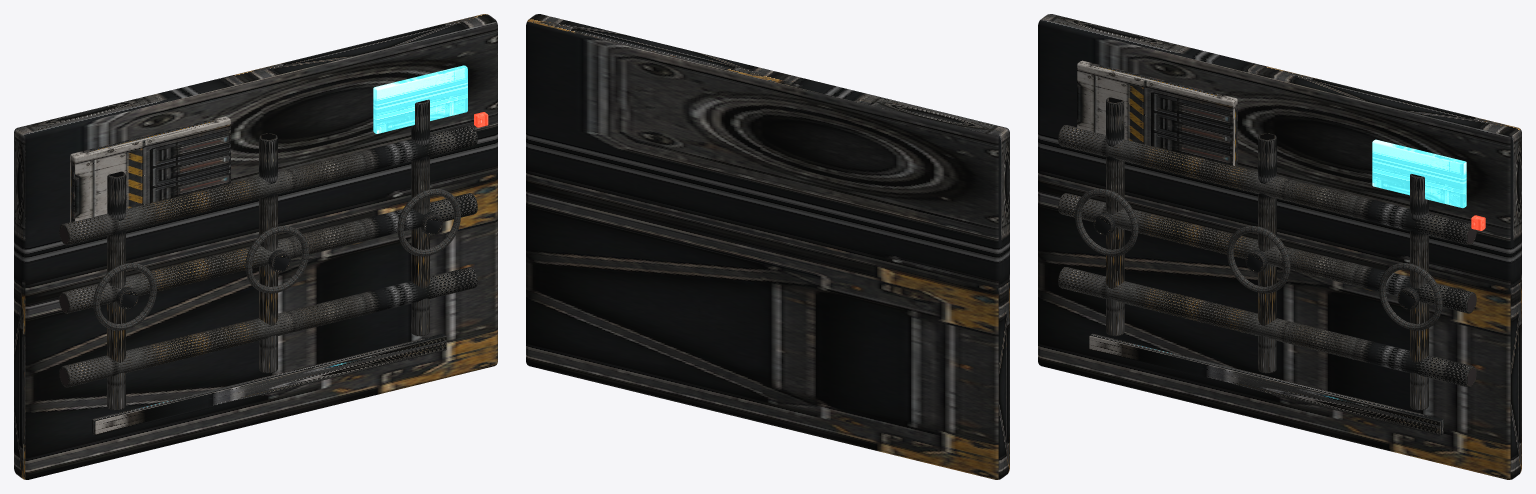
File: room_l1_img2_valve_manifold_wall.glb
3 renders of one model, left to right at view 1: azimuth 30°, elevation 25°; view 2: azimuth 150°, elevation 25°; view 3: azimuth 330°, elevation 25°, orthographic.
Visible parts, largest first — view 1: wall_backing_grimy_panel, upper_white_access_plate, horizontal_pipe_run_0, horizontal_pipe_run_2, horizontal_pipe_run_1, lower_hazard_pipe_label, cyan_pressure_readout, vertical_manifold_drop_1, vertical_manifold_drop_0, vertical_manifold_drop_2, valve_handwheel_0, valve_handwheel_2 (+1 smaller); view 2: wall_backing_grimy_panel; view 3: wall_backing_grimy_panel, upper_white_access_plate, horizontal_pipe_run_0, horizontal_pipe_run_2, horizontal_pipe_run_1, lower_hazard_pipe_label, cyan_pressure_readout, vertical_manifold_drop_1, vertical_manifold_drop_0, vertical_manifold_drop_2, valve_handwheel_0, valve_handwheel_2 (+1 smaller).
Boxes of the visible parts, box(x1,y1,x2,y2) form: wall_backing_grimy_panel: box(14, 14, 497, 479); upper_white_access_plate: box(70, 116, 230, 222); horizontal_pipe_run_0: box(59, 267, 477, 387); horizontal_pipe_run_2: box(59, 125, 477, 245); horizontal_pipe_run_1: box(59, 193, 477, 313); lower_hazard_pipe_label: box(92, 333, 446, 435); cyan_pressure_readout: box(373, 65, 467, 133); vertical_manifold_drop_1: box(259, 133, 277, 373); vertical_manifold_drop_0: box(107, 171, 125, 410); vertical_manifold_drop_2: box(411, 99, 429, 336); valve_handwheel_0: box(93, 263, 156, 330); valve_handwheel_2: box(397, 188, 460, 256); wall_backing_grimy_panel: box(526, 14, 1009, 479); wall_backing_grimy_panel: box(1038, 14, 1521, 479); upper_white_access_plate: box(1077, 60, 1237, 166); horizontal_pipe_run_0: box(1058, 267, 1476, 387); horizontal_pipe_run_2: box(1058, 125, 1476, 245); horizontal_pipe_run_1: box(1058, 193, 1476, 313); lower_hazard_pipe_label: box(1089, 333, 1443, 435); cyan_pressure_readout: box(1372, 139, 1466, 208); vertical_manifold_drop_1: box(1258, 133, 1276, 373); vertical_manifold_drop_0: box(1106, 97, 1124, 336); vertical_manifold_drop_2: box(1410, 174, 1428, 410); valve_handwheel_0: box(1075, 188, 1138, 256); valve_handwheel_2: box(1379, 263, 1442, 330).
Size of the model in its own units: 1.75 by 1.22 by 0.2025.
Materials: 7 (7 with a texture image).
